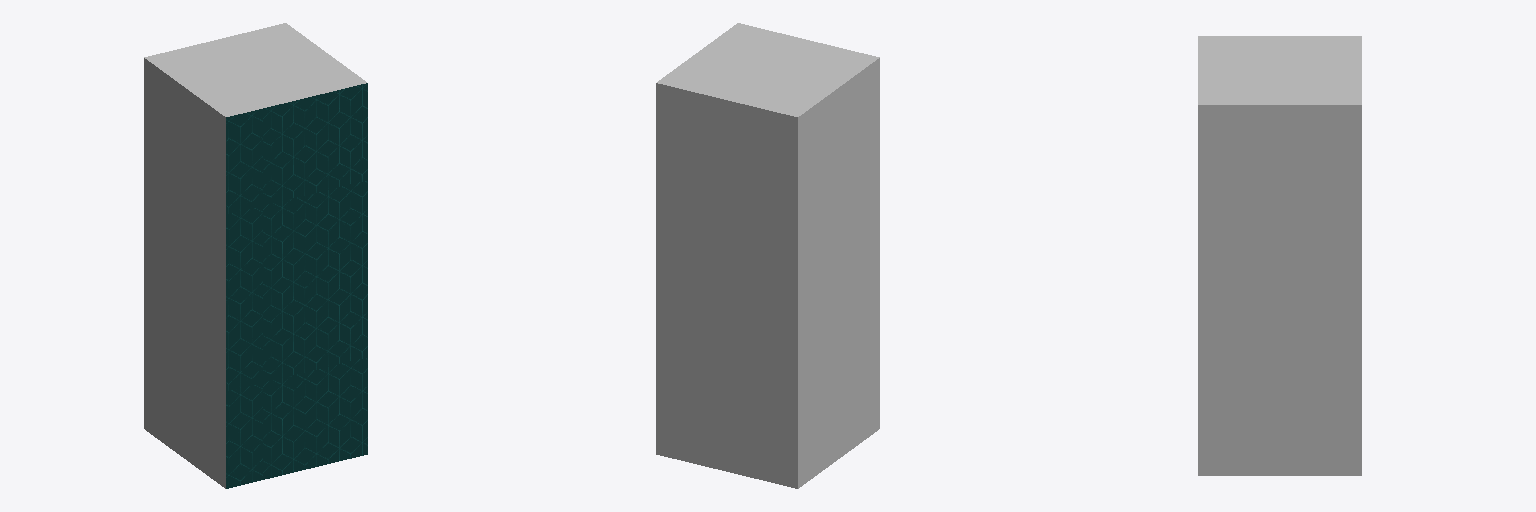
3 views of the same model, side by side, from view 1: azimuth 30°, elevation 25°; view 2: azimuth 150°, elevation 25°; view 3: azimuth 270°, elevation 25° (orthographic).
Parts seen in each view (by area): view 1: Cube_Cube.001; view 2: Cube_Cube.001; view 3: Cube_Cube.001.
Boxes of the visible parts, <box> form: Cube_Cube.001: <box>144,23,367,488</box>; Cube_Cube.001: <box>656,23,879,488</box>; Cube_Cube.001: <box>1198,36,1361,475</box>.
Bounding box in the file's own units: 1 × 2.5 × 1.
Materials: 2 (1 with a texture image).